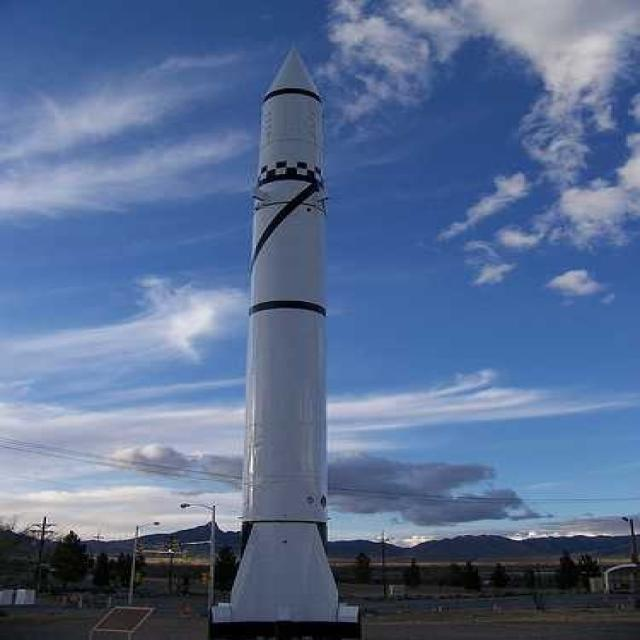missile: (204, 44, 366, 640)
